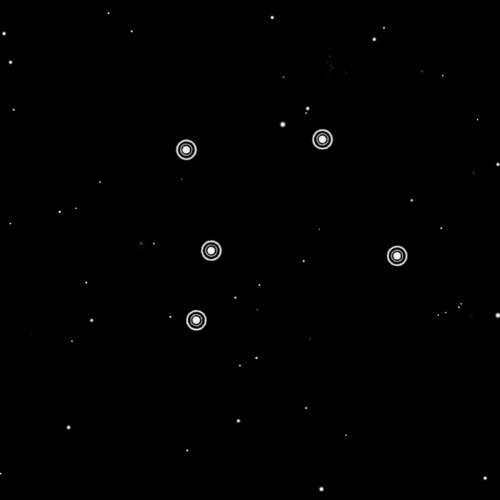libra: (167, 116, 409, 336)
